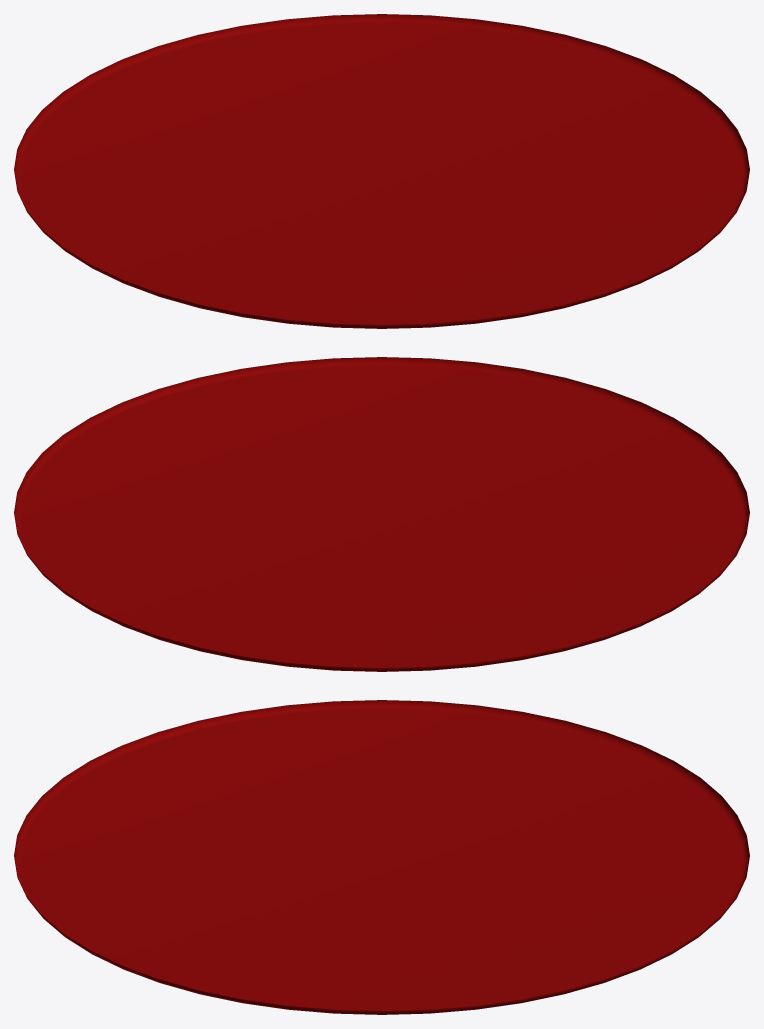
Rendered from braiser-bottom-new.obj.
3 renders of one model, top to bottom at view 1: azimuth 30°, elevation 25°; view 2: azimuth 150°, elevation 25°; view 3: azimuth 270°, elevation 25°, orthographic.
Parts seen in each view (by area): view 1: mesh2/mesh2-geometry/material_0#mesh2-geometry.002; view 2: mesh2/mesh2-geometry/material_0#mesh2-geometry.002; view 3: mesh2/mesh2-geometry/material_0#mesh2-geometry.002.
Boxes of the visible parts, x1,y1,x2,y2 form: mesh2/mesh2-geometry/material_0#mesh2-geometry.002: [14, 14, 749, 328]; mesh2/mesh2-geometry/material_0#mesh2-geometry.002: [14, 357, 749, 671]; mesh2/mesh2-geometry/material_0#mesh2-geometry.002: [14, 700, 749, 1014].
Bounding box in the file's own units: 0.9773 × 0.00897 × 0.9773.
